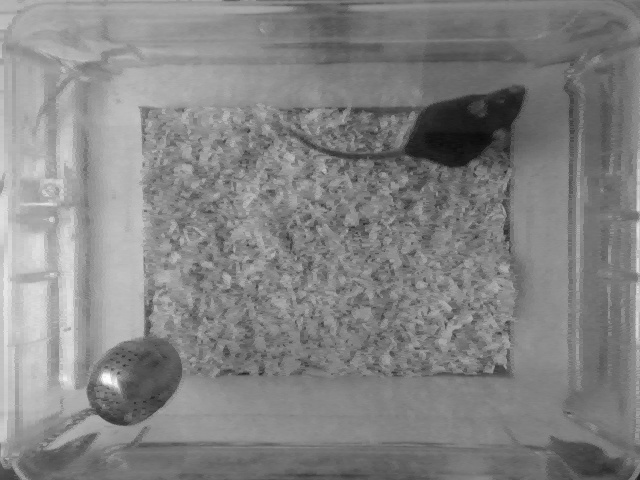mice: (284, 84, 530, 169)
